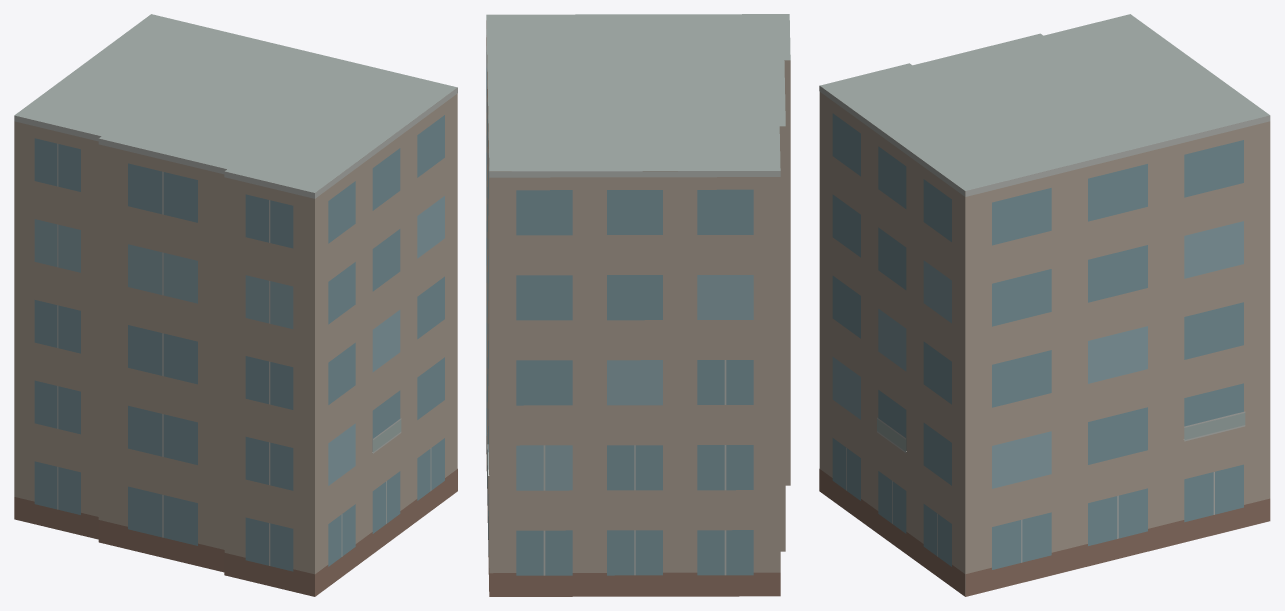
Rendered from survey-upis-32854695.glb.
3 renders of one model, left to right at view 1: azimuth 30°, elevation 25°; view 2: azimuth 150°, elevation 25°; view 3: azimuth 270°, elevation 25°, orthographic. The views are drawn at different scales.
Visible parts, largest first — view 1: survey-upis-32854695.tmp; view 2: survey-upis-32854695.tmp; view 3: survey-upis-32854695.tmp.
Part boxes in pixels (bbox=[...]): survey-upis-32854695.tmp: bbox=[14, 14, 457, 596]; survey-upis-32854695.tmp: bbox=[486, 14, 790, 596]; survey-upis-32854695.tmp: bbox=[819, 14, 1270, 596].
Size of the model in its own units: 15.74 by 16.8 by 16.93.
